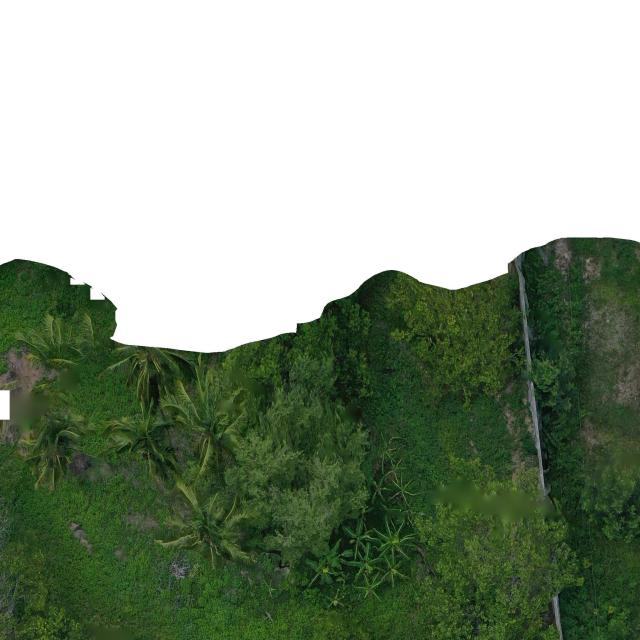banana_tree2: (301, 537, 353, 589), (372, 515, 417, 567), (346, 541, 388, 583), (342, 517, 382, 561), (353, 570, 392, 600), (386, 474, 420, 504), (379, 552, 410, 584), (370, 473, 392, 504)
tree: (412, 451, 591, 640), (222, 380, 374, 570), (384, 271, 526, 397), (216, 286, 380, 395), (0, 495, 91, 640), (156, 478, 262, 571), (164, 374, 247, 483), (95, 400, 180, 482), (100, 344, 208, 406), (16, 409, 88, 495), (577, 461, 640, 546), (14, 312, 85, 372)
